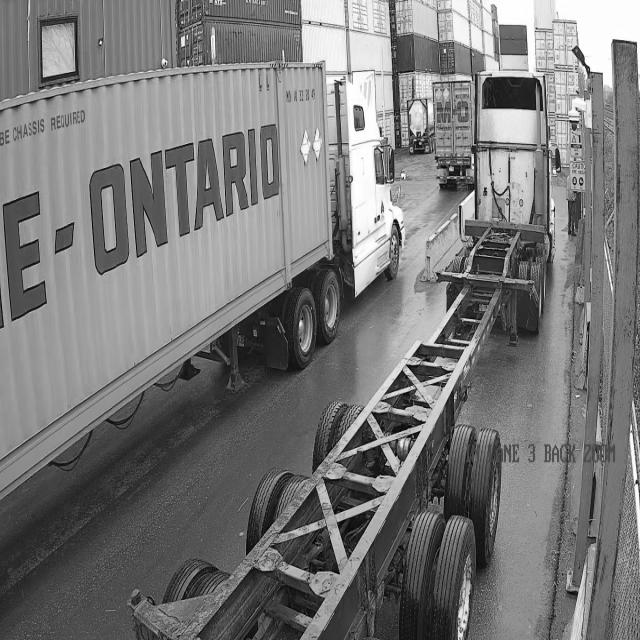container_company_logo: (1, 104, 284, 307)
container_number: (282, 85, 327, 104)
driver: (433, 81, 474, 188), (566, 176, 580, 235)
enterance: (461, 438, 620, 479)
truck_with_container: (0, 64, 406, 498)
truck_without_container: (130, 71, 555, 639)
